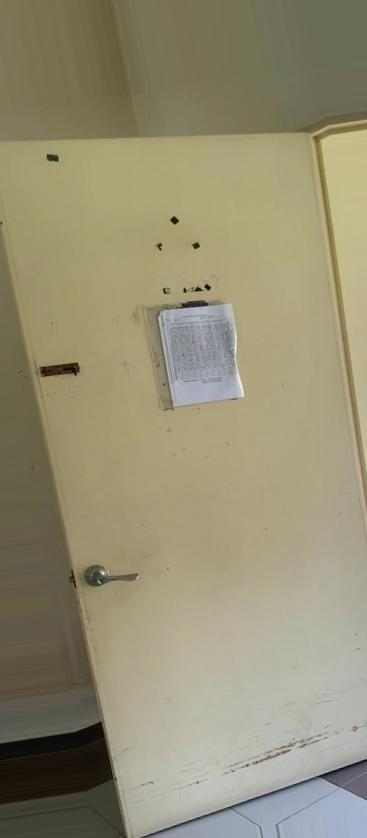door: (0, 133, 366, 838)
